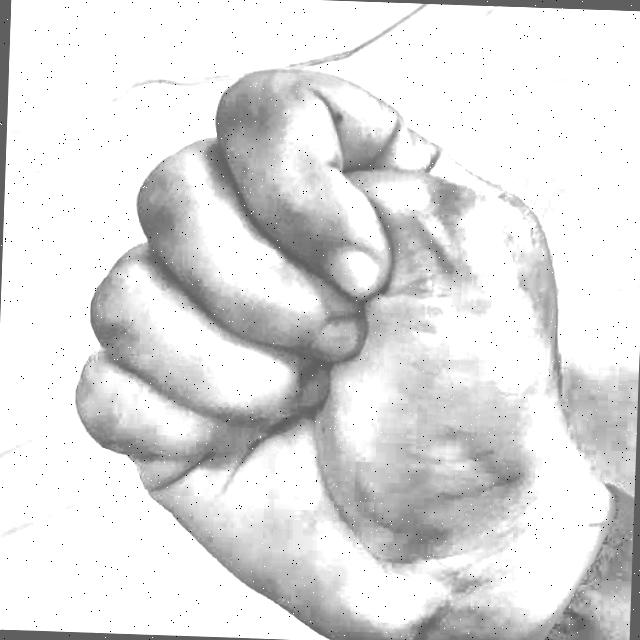To: (51, 30, 593, 640)
